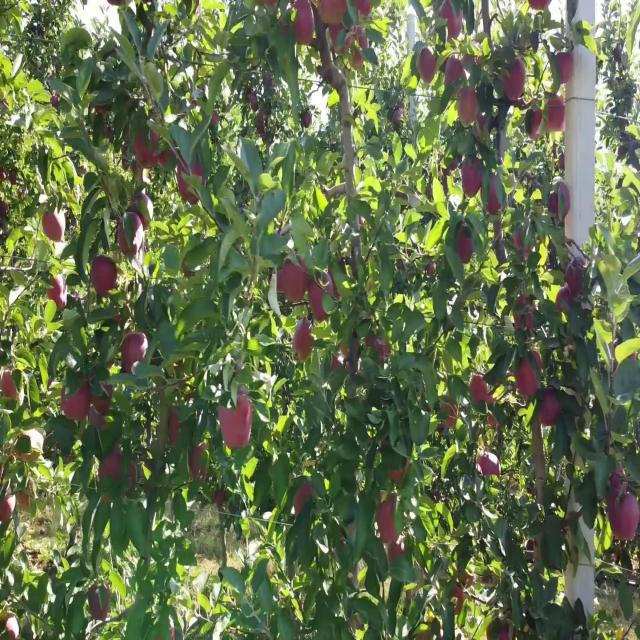apple: (116, 191, 150, 258), (220, 391, 254, 452), (608, 490, 640, 544), (308, 277, 340, 324), (116, 213, 148, 258), (276, 263, 309, 306), (516, 348, 544, 398), (60, 383, 91, 425), (504, 56, 528, 107), (376, 497, 400, 548), (92, 255, 119, 299), (180, 163, 207, 206), (292, 0, 316, 48), (124, 334, 149, 377), (136, 127, 160, 171), (88, 583, 112, 624), (440, 0, 464, 39), (292, 319, 313, 363), (548, 184, 572, 222), (16, 426, 39, 464), (464, 156, 484, 199), (328, 15, 348, 57), (512, 298, 536, 332), (100, 447, 123, 482), (568, 255, 587, 297), (188, 440, 208, 478), (540, 391, 561, 427), (320, 0, 348, 27), (132, 191, 150, 233), (92, 383, 114, 416), (460, 92, 480, 128), (352, 28, 368, 71), (456, 227, 474, 265), (548, 99, 567, 135), (48, 277, 67, 313), (44, 213, 65, 244), (444, 56, 465, 87), (296, 483, 315, 517), (420, 49, 437, 85), (16, 433, 35, 464), (608, 469, 628, 498), (560, 49, 576, 85), (528, 106, 544, 142), (332, 21, 348, 57), (488, 177, 503, 215), (484, 391, 499, 428), (484, 391, 499, 427), (4, 369, 20, 402), (476, 455, 500, 476), (440, 405, 457, 434), (160, 142, 177, 171), (388, 462, 410, 484), (556, 291, 575, 316), (168, 412, 181, 448), (472, 376, 488, 405), (20, 483, 35, 512), (376, 334, 392, 361), (388, 540, 405, 565), (516, 234, 532, 260), (0, 497, 15, 524), (452, 583, 464, 615), (280, 7, 292, 37), (476, 113, 488, 142), (356, 0, 372, 20), (368, 334, 384, 354), (464, 56, 479, 76), (128, 462, 138, 492), (528, 0, 549, 14), (492, 625, 511, 639), (8, 618, 20, 638), (364, 334, 379, 350), (264, 1, 278, 18), (340, 341, 351, 361), (332, 355, 346, 370), (488, 412, 499, 428), (464, 575, 475, 588), (0, 206, 8, 220)
